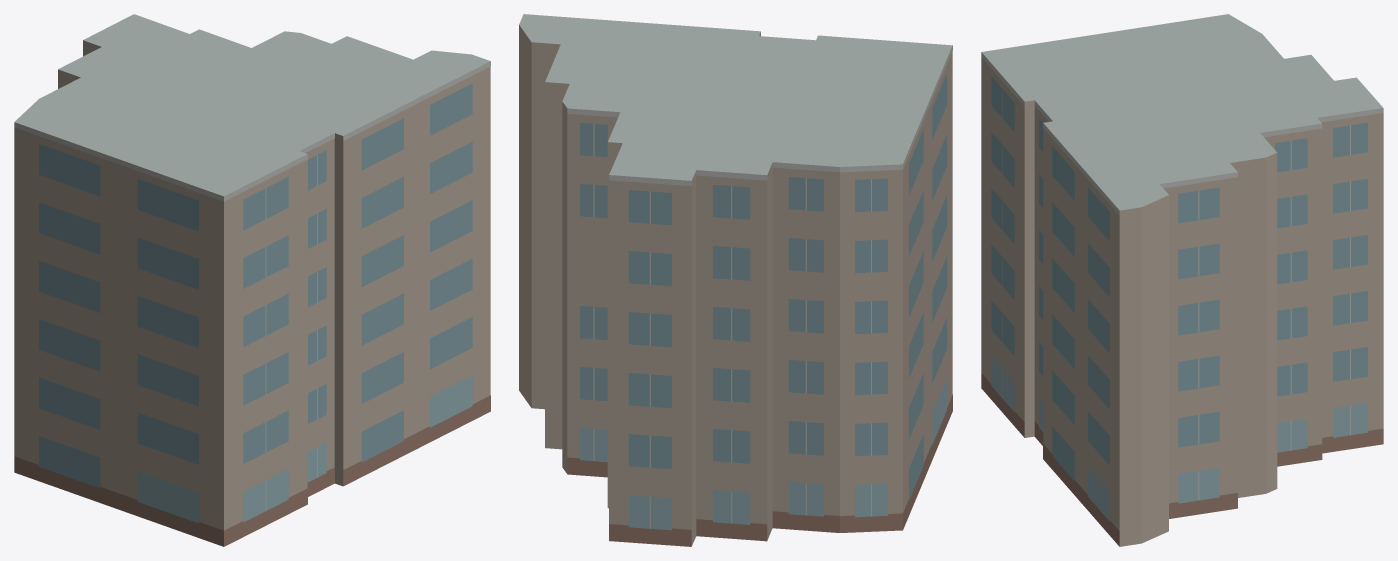
Rendered from survey-upis-32727512.glb.
3 renders of one model, left to right at view 1: azimuth 30°, elevation 25°; view 2: azimuth 150°, elevation 25°; view 3: azimuth 270°, elevation 25°, orthographic. The views are drawn at different scales.
Visible parts, largest first — view 1: survey-upis-32727512.tmp; view 2: survey-upis-32727512.tmp; view 3: survey-upis-32727512.tmp.
Boxes of the visible parts, x1=… form: survey-upis-32727512.tmp: x1=14, y1=14, x2=490, y2=546; survey-upis-32727512.tmp: x1=519, y1=14, x2=952, y2=546; survey-upis-32727512.tmp: x1=981, y1=14, x2=1383, y2=546.
Bounding box in the file's own units: 20.82 × 16.6 × 18.
